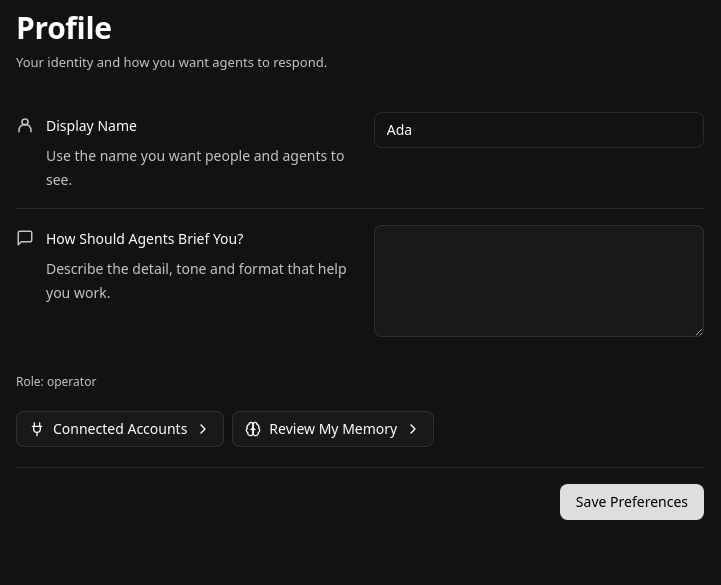
Test: personal briefing saves only writable profile fields
The image size is (721, 585).
Replace the text in the field labelled "Display Name" with "Nadia" at (539, 130), box [374,112,704,148]
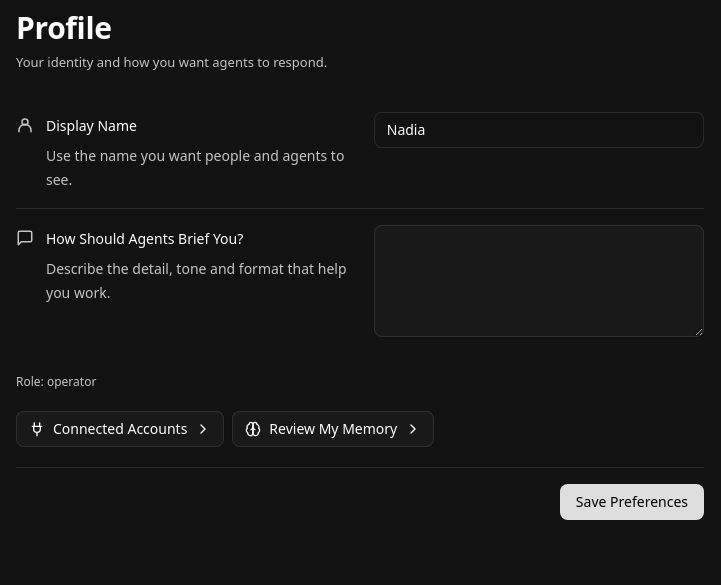
Type "Start with the conclusion" into the text box labelled "How Should Agents Brief You?" at (539, 280), box [374,224,704,336]
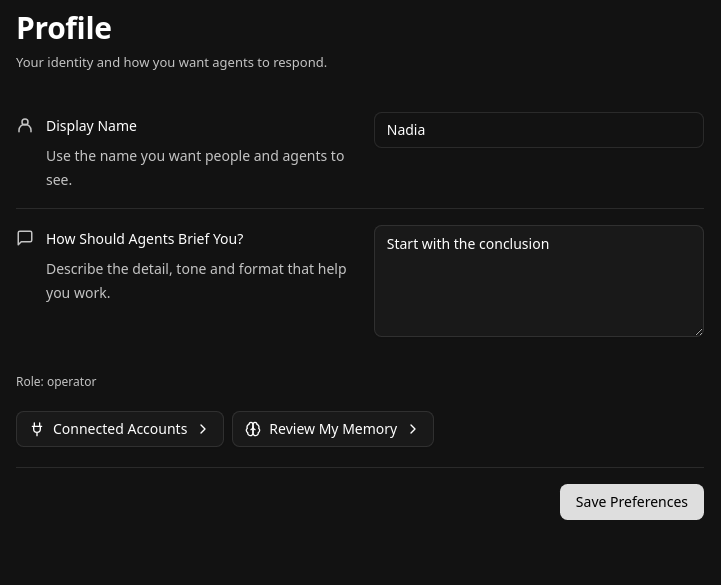
Click the button "Save Preferences" at (632, 502), box [560,484,704,520]
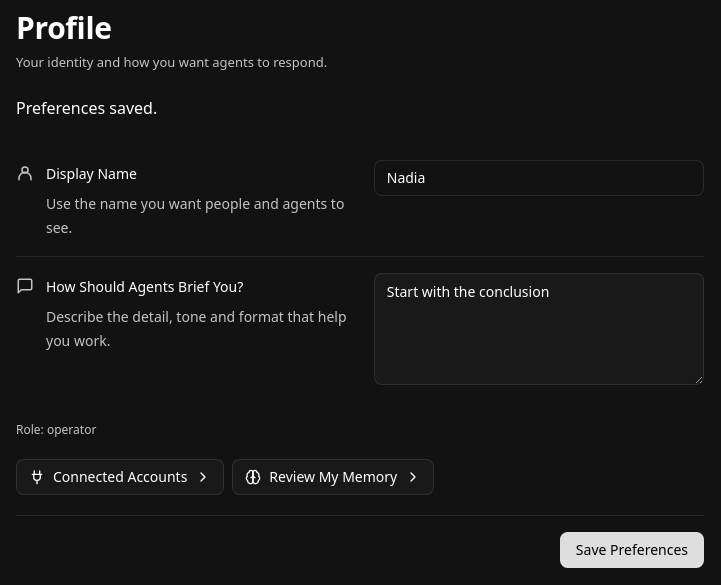
Check: the message "Preferences saved." is shown, box [16,96,157,118]
